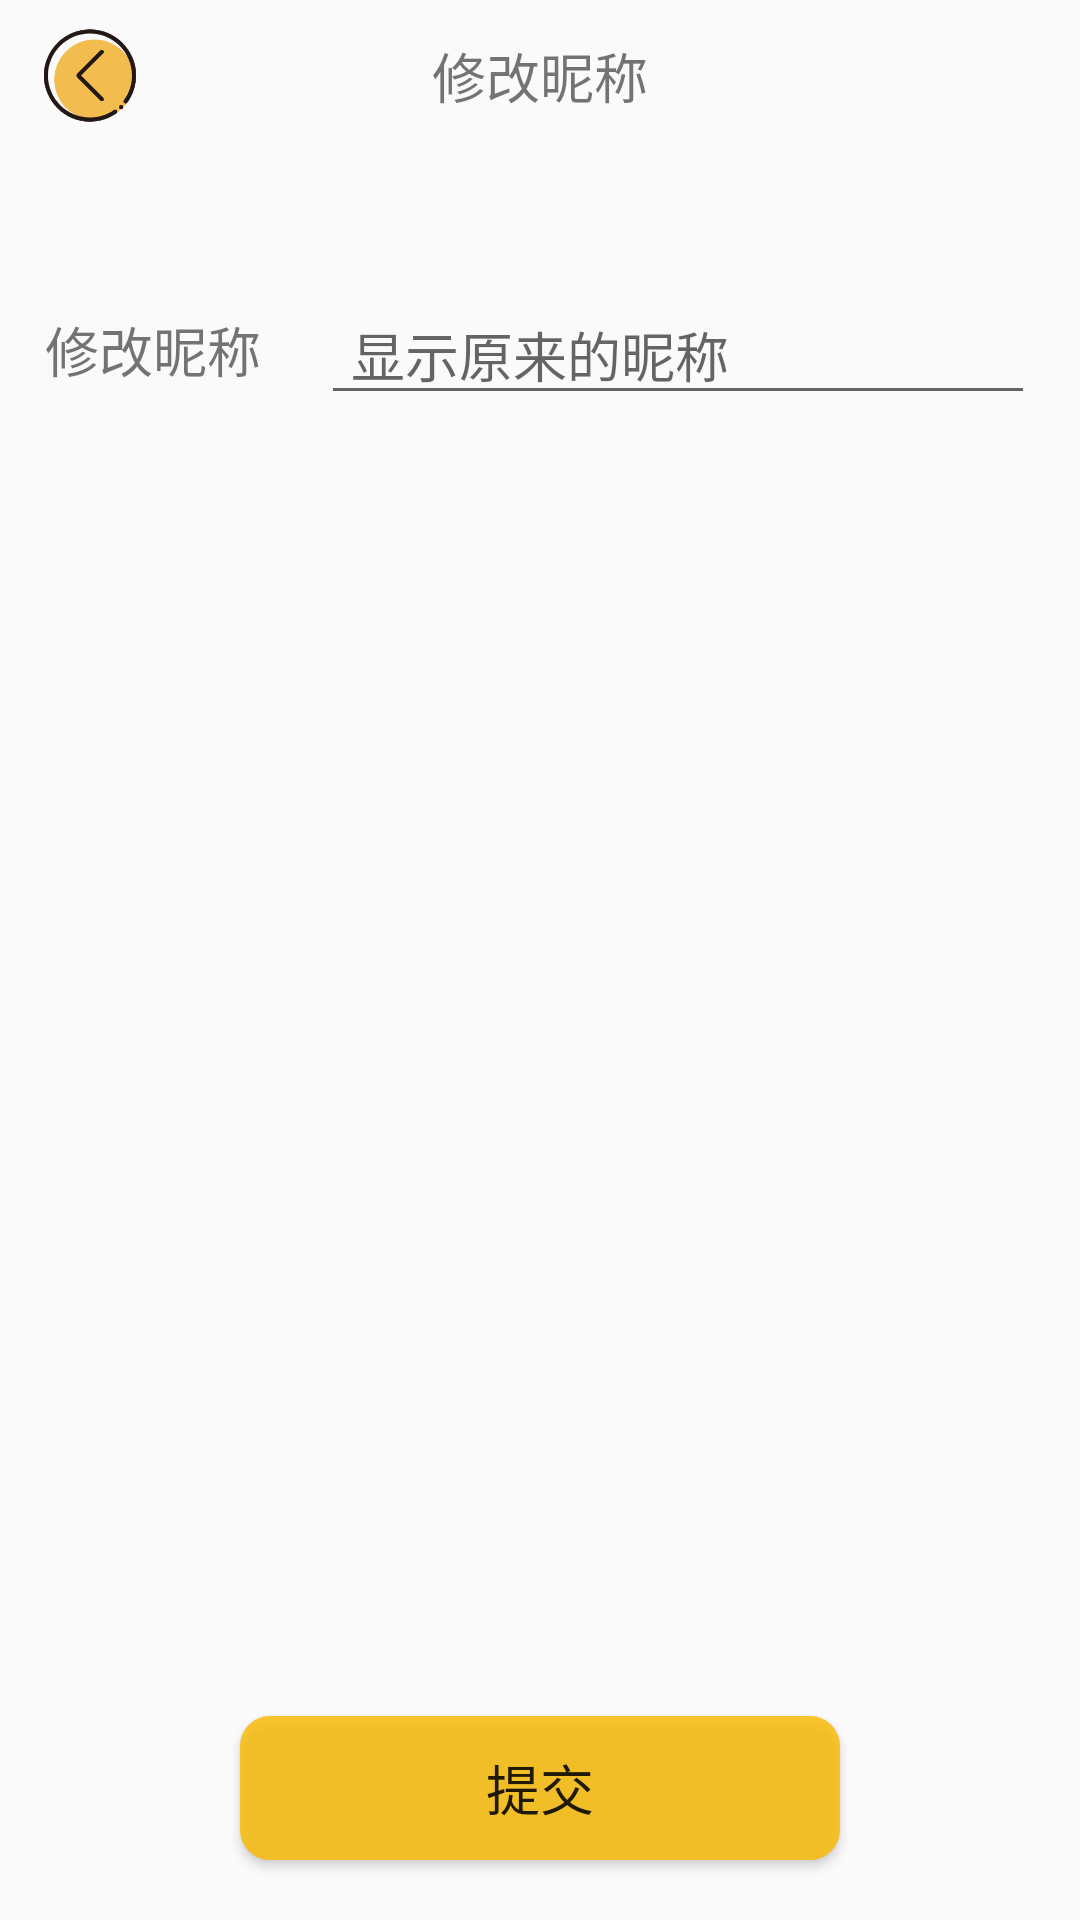

Locate icon controls on the screen. Image size 1080 x 1920, boxes as (x1, y1, x2, y2).
fanhui: (44, 29, 136, 122)
